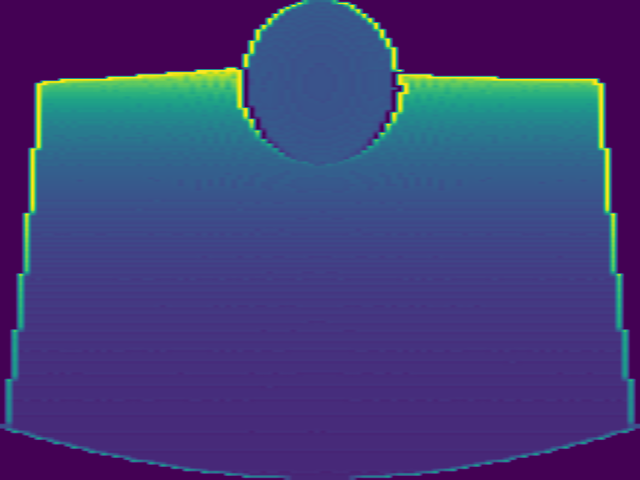sphere: (242, 1, 402, 167)
